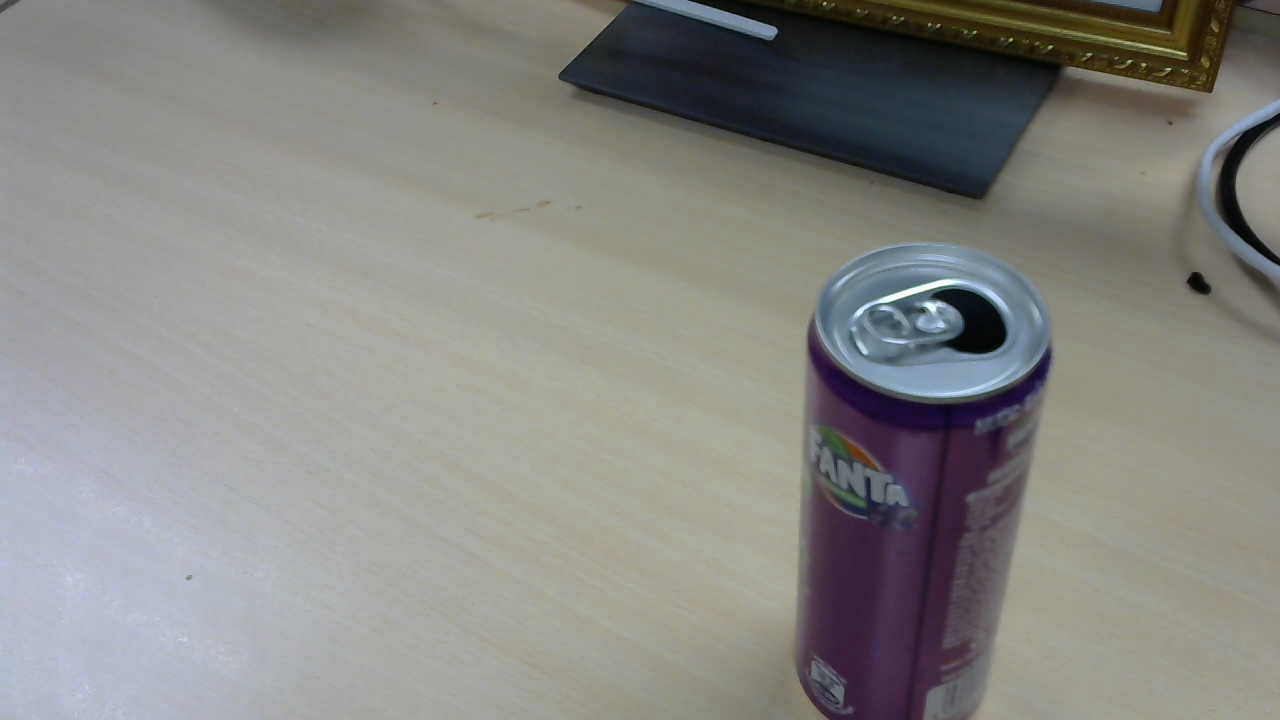Fanta: (794, 243, 1063, 697)
